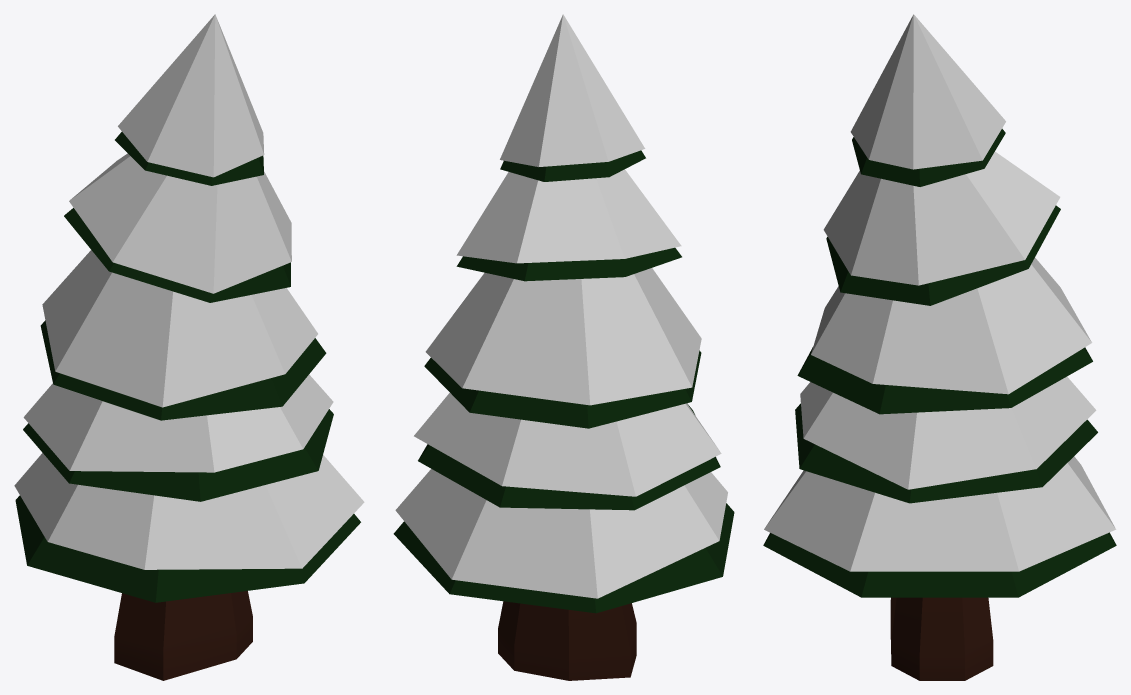
Rendered from Tree_1.fbx.glb.
The picture shows the model from 3 angles, left to right: view 1: azimuth 30°, elevation 25°; view 2: azimuth 150°, elevation 25°; view 3: azimuth 270°, elevation 25°; orthographic projection. The views are drawn at different scales.
Visible parts, largest first — view 1: Tree.1; view 2: Tree.1; view 3: Tree.1.
Part boxes in pixels (x1,y1,x2,y2): Tree.1: (14,14,364,680); Tree.1: (393,14,734,680); Tree.1: (763,14,1116,680).
Bounding box in the file's own units: 4.32 × 8.98 × 4.43.
